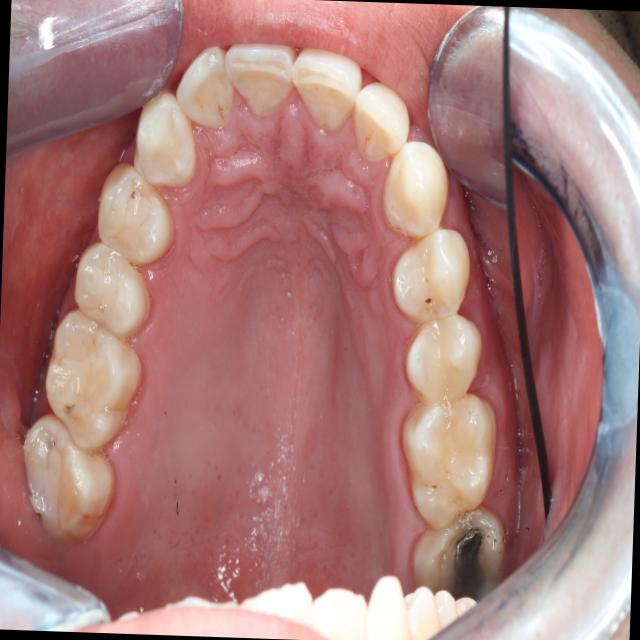tooth: (2, 405, 127, 559), (38, 295, 149, 459), (394, 389, 503, 532), (403, 497, 511, 607), (89, 153, 183, 277), (64, 232, 160, 344), (395, 298, 490, 409), (385, 218, 477, 332), (126, 77, 201, 202), (220, 27, 301, 135), (285, 36, 366, 142), (377, 136, 454, 242), (169, 37, 241, 136), (348, 68, 415, 171)
